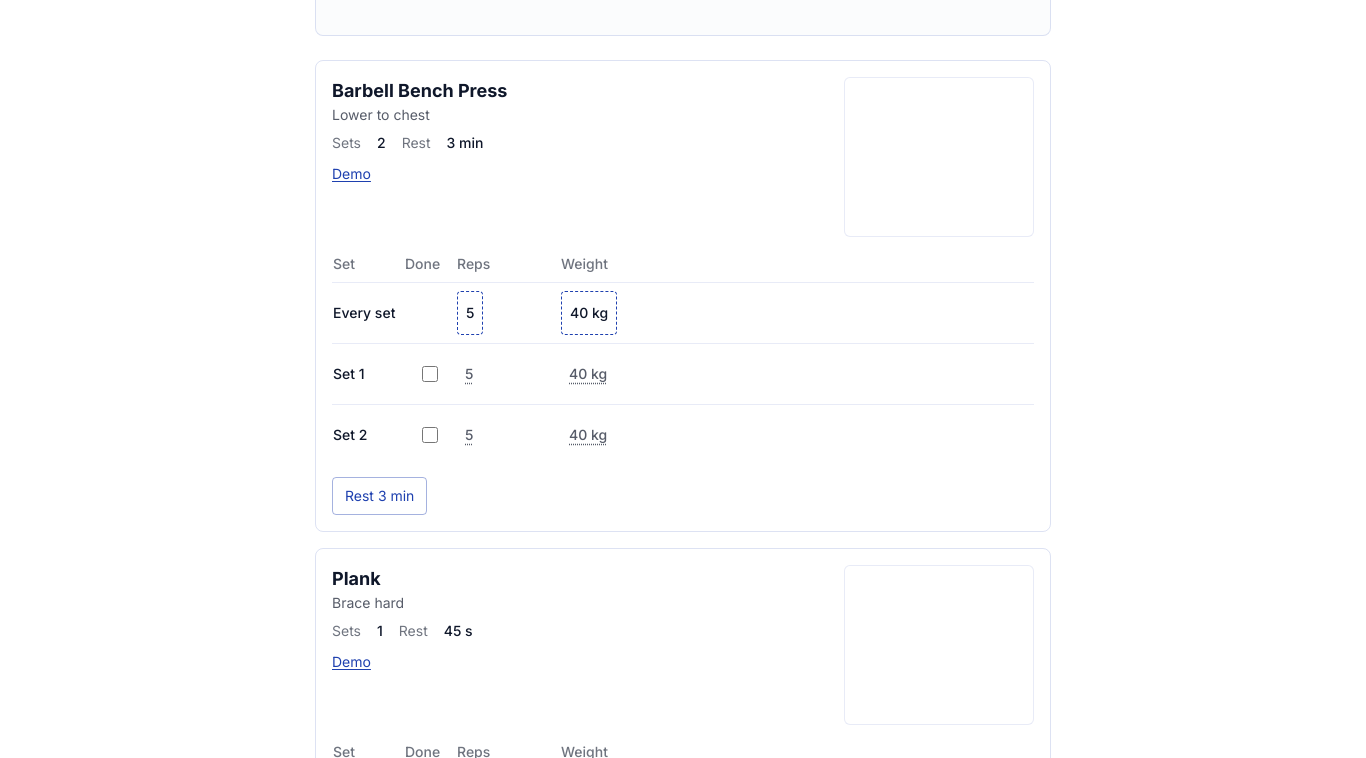
Test: WorkoutApp › should keep counting down the original rest duration while another day is browsed
(page scrolled)
Click the checkbox named "Barbell Bench Press set 1".
click(430, 374)  # box 422,366 -> 438,382
(page scrolled)
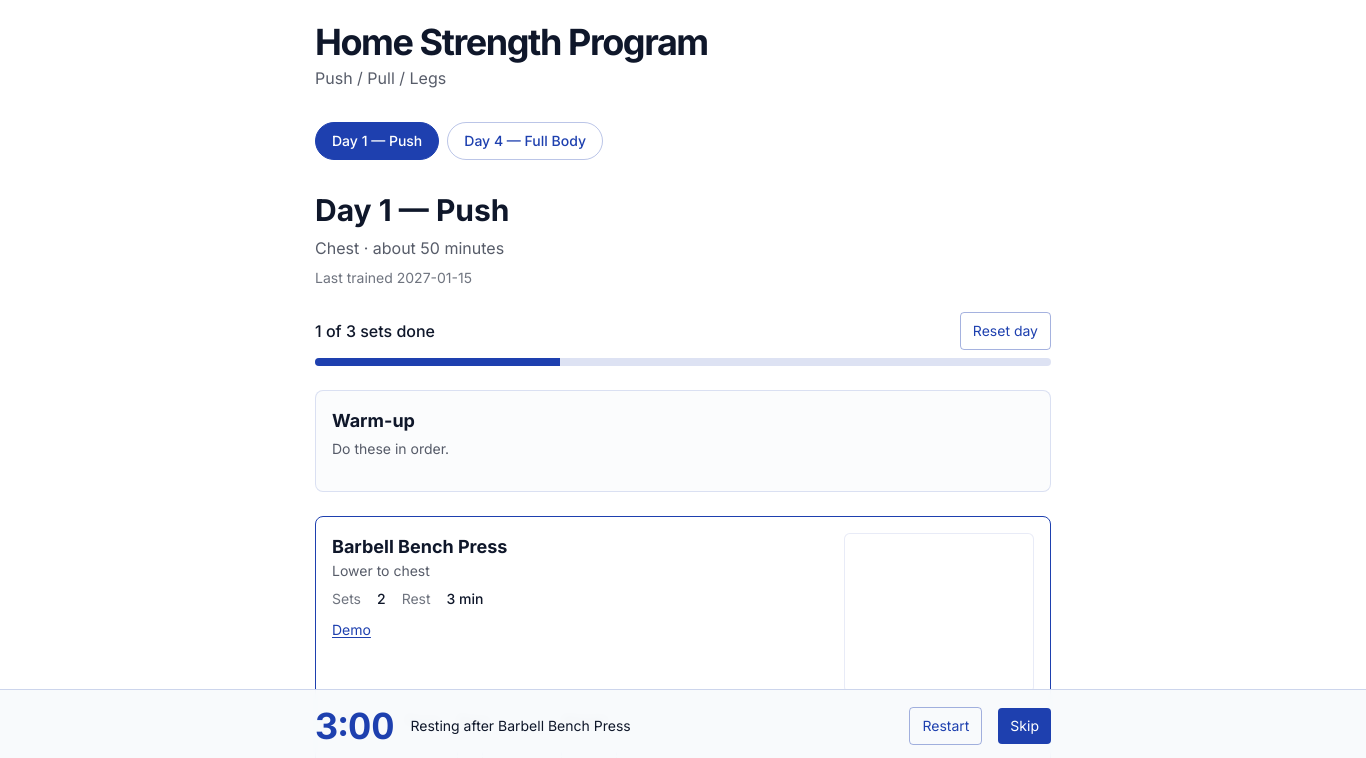
Click the button "Day 4 — Full Body".
click(525, 141)  # box 447,122 -> 603,160
Wait 60000 ms
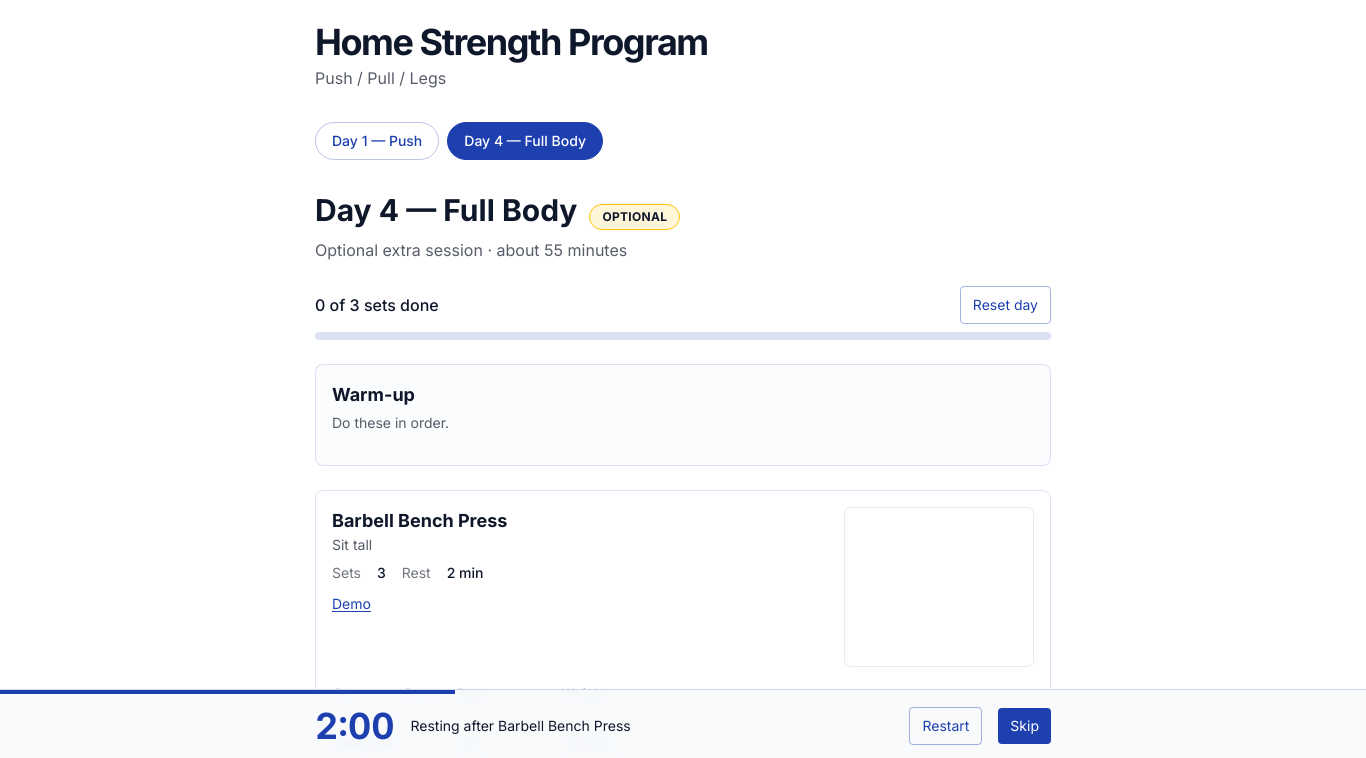
Expected: the text "2:00" is shown, 315,706 -> 394,746
